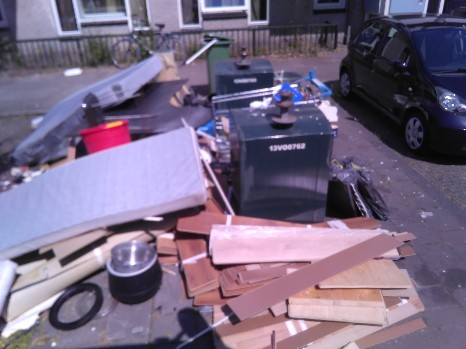Container: (225, 107, 332, 214), (219, 63, 277, 100)
Rest: (198, 225, 428, 349), (0, 146, 205, 223), (15, 246, 102, 336), (15, 78, 137, 138), (129, 57, 190, 138), (104, 236, 173, 302)
Voertuig: (125, 18, 186, 62)
